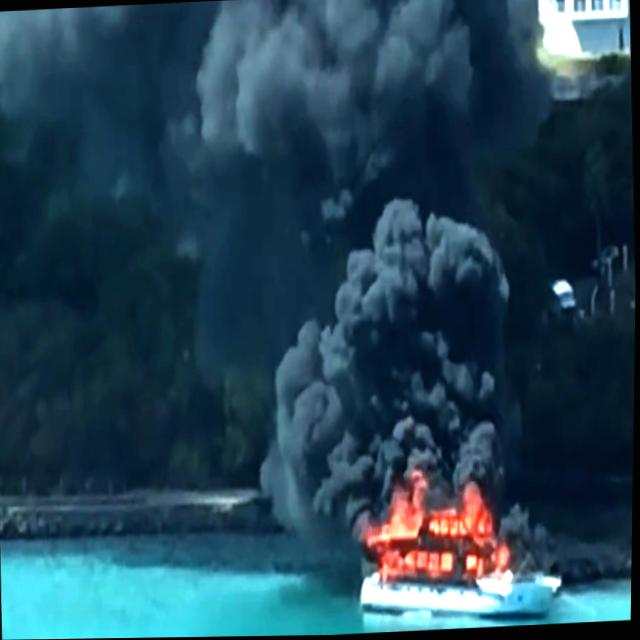smoke: (275, 190, 519, 519), (47, 0, 549, 140)
